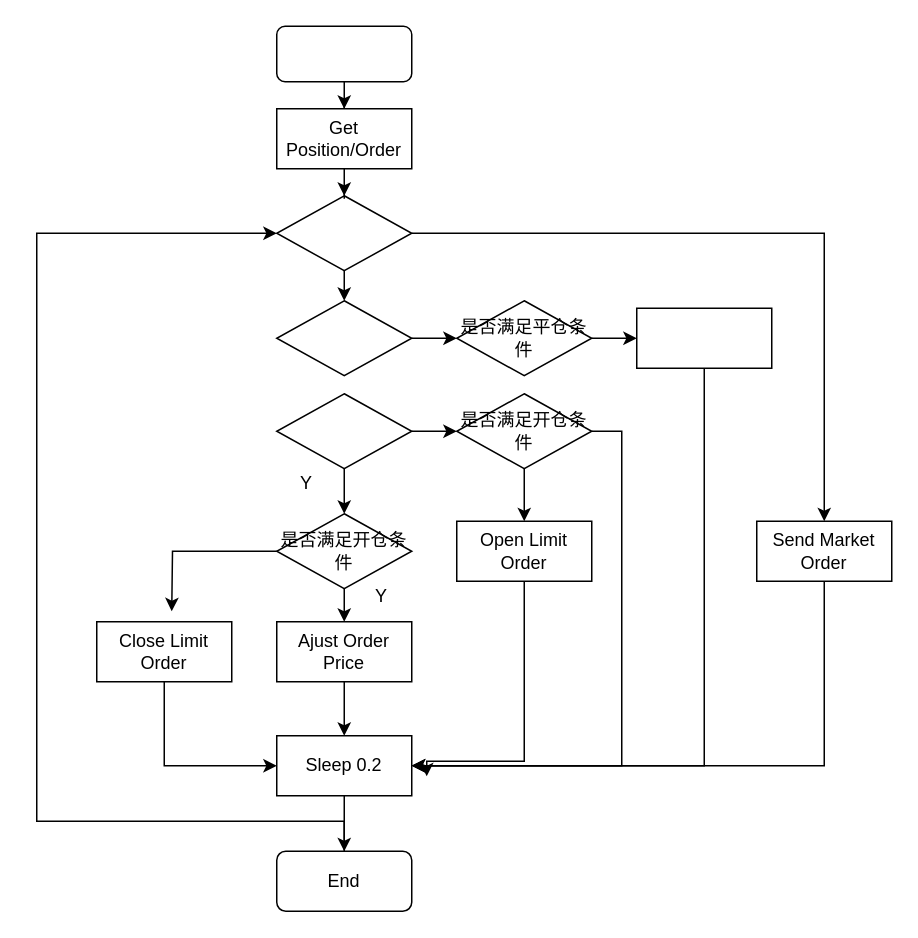
Image size: 918x938. Some labels were removed from this diagram. Here are the shapes that lost their labels. From the top down, the centre of each, then its label:
pixel 343 53: Start
pixel 343 232: Limit Order Filled
pixel 343 337: 仓位数量=2
pixel 703 337: Close Order
pixel 343 430: Exist Limit Order
